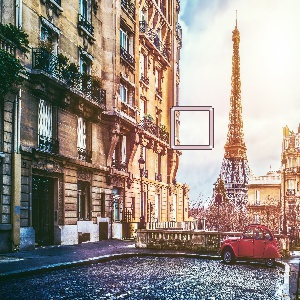square: (169, 105, 216, 151)
